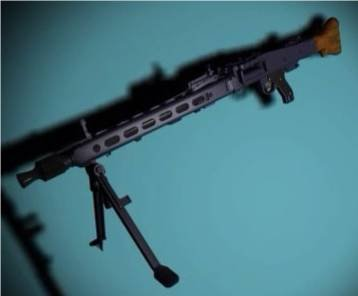rifle: (16, 15, 338, 284)
